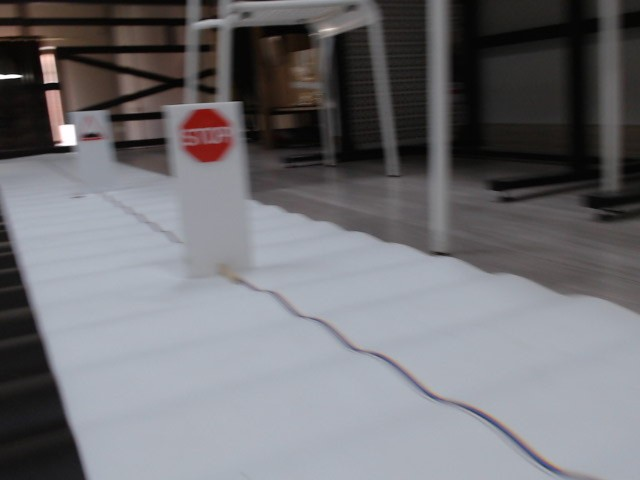Nerov: (77, 115, 107, 141)
Stop: (182, 108, 231, 162)
